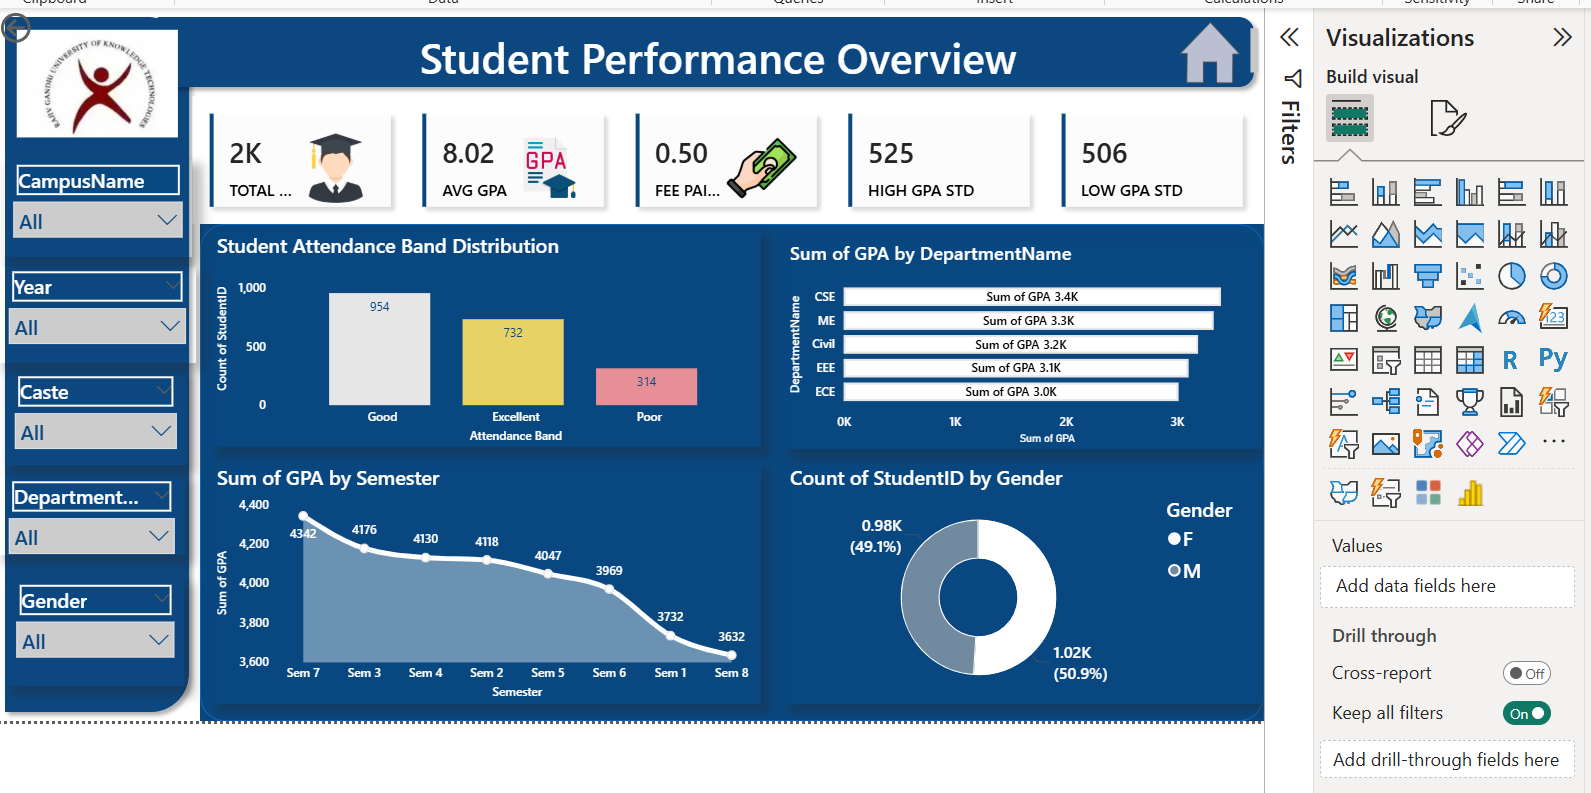

The page's visual inventory and layout, read from the dashboard file:
{"tool":"powerbi","page":{"name":"Studentperformnace","canvas":[1280,720],"ordinal":1},"visuals":[{"type":"shape","box":[0,0,204.1,720],"z":0},{"type":"shape","box":[155,0,1124.4,88.8],"z":1000},{"type":"image","box":[13.2,17,177.6,119.1],"z":2000},{"type":"textbox","box":[175.7,15.1,1103.6,60.5],"z":3000},{"type":"cardVisual","fields":{"Data":["measures1.Total Students","measures1.AVG GPA","measures1.Fee Paid %","measures1.HIGH GPA STUDENTS","measures1.Low GPA Students"]},"box":[198.4,88.8,1081,128.5],"z":4000},{"type":"shape","box":[206,218,1074,502],"z":5000},{"type":"donutChart","fields":{"Category":["Student.Gender"],"Y":["CountNonNull(Student.StudentID)"]},"box":[796,460,482,242],"z":6000},{"type":"barChart","fields":{"Category":["Department.DepartmentName"],"Y":["Sum(Student.GPA)"]},"box":[796,234,482,210],"z":7000},{"type":"columnChart","title":"Student Attendance Band Distribution","fields":{"Category":["Student.Attendance Band"],"Y":["CountNonNull(Student.StudentID)"]},"box":[218,226,554,218],"z":8000},{"type":"lineChart","fields":{"Y":["Sum(StudentGrades.GPA)"],"Category":["StudentGrades.Semester"]},"box":[218,460,554,242],"z":9000},{"type":"slicer","fields":{"Values":["campus.CampusName"]},"box":[7.6,153.1,190.9,98.3],"z":10000},{"type":"slicer","fields":{"Values":["Student.Year"]},"box":[3.8,260.8,198.4,98.3],"z":11000},{"type":"slicer","fields":{"Values":["Student.Gender"]},"box":[11.3,576.4,179.5,107.7],"z":12000},{"type":"slicer","fields":{"Values":["Student.Caste"]},"box":[9.4,366.6,183.3,94.5],"z":13000},{"type":"slicer","fields":{"Values":["Department.DepartmentName"]},"box":[3.8,472.4,187.1,79.4],"z":14000},{"type":"actionButton","box":[0,0,100,40],"z":15000},{"type":"image","box":[1173.6,7.6,103.9,75.6],"z":16000}]}

Visuals, with their boxes on the page's 1280x720 design canvas (x1, y1, x2, y2). These are canvas units, not pixel positions in the 1591x793 screenshot, which may show the page scaled, cropped or inside an application window:
shape: crop(0, 0, 204, 720)
shape: crop(155, 0, 1279, 89)
image: crop(13, 17, 191, 136)
textbox: crop(176, 15, 1279, 76)
cardVisual - measures1.Total Students x measures1.AVG GPA: crop(198, 89, 1279, 217)
shape: crop(206, 218, 1280, 720)
donutChart - Student.Gender x CountNonNull(Student.StudentID): crop(796, 460, 1278, 702)
barChart - Department.DepartmentName x Sum(Student.GPA): crop(796, 234, 1278, 444)
"Student Attendance Band Distribution" columnChart: crop(218, 226, 772, 444)
lineChart - Sum(StudentGrades.GPA) x StudentGrades.Semester: crop(218, 460, 772, 702)
slicer - campus.CampusName: crop(8, 153, 198, 251)
slicer - Student.Year: crop(4, 261, 202, 359)
slicer - Student.Gender: crop(11, 576, 191, 684)
slicer - Student.Caste: crop(9, 367, 193, 461)
slicer - Department.DepartmentName: crop(4, 472, 191, 552)
actionButton: crop(0, 0, 100, 40)
image: crop(1174, 8, 1278, 83)
